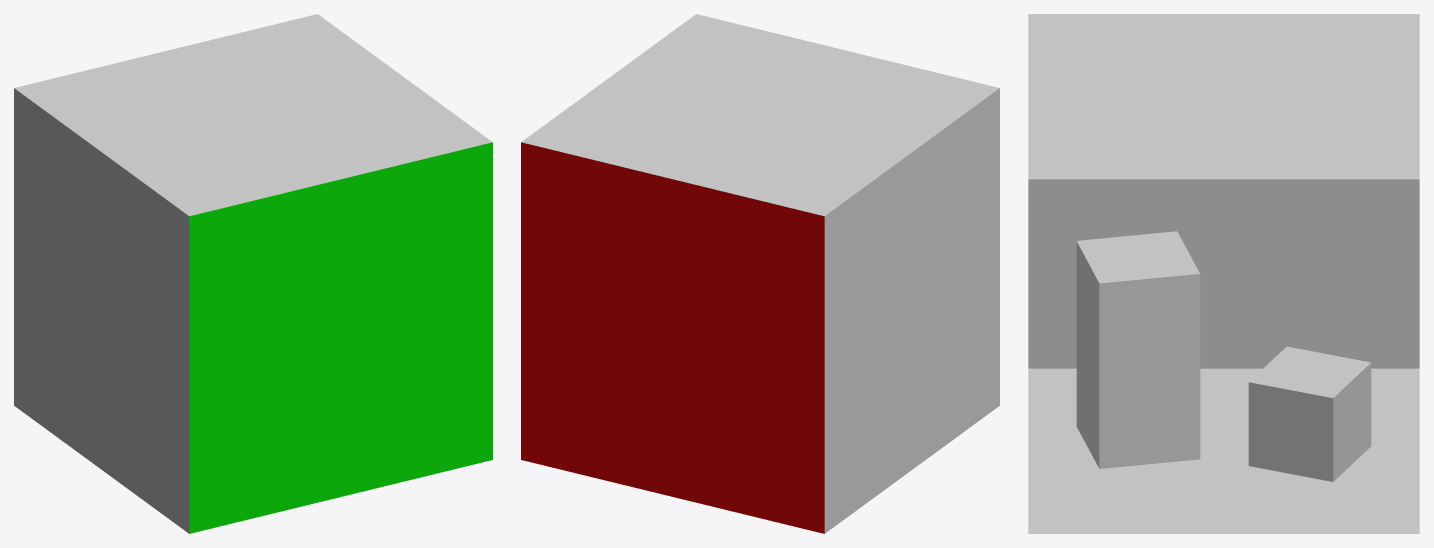
The model's file is gltf-v1.gltf.
3 renders of one model, left to right at view 1: azimuth 30°, elevation 25°; view 2: azimuth 150°, elevation 25°; view 3: azimuth 270°, elevation 25°, orthographic. The views are drawn at different scales.
Visible parts, largest first — view 1: Cube; view 2: Cube; view 3: Cube, Cube.002, Cube.001.
Part boxes in pixels (<box>): Cube: <box>14,14,492,533</box>; Cube: <box>521,14,999,533</box>; Cube: <box>1028,14,1419,533</box>; Cube.002: <box>1076,231,1200,468</box>; Cube.001: <box>1248,346,1371,481</box>.
Bounding box in the file's own units: 2 × 2 × 2.
